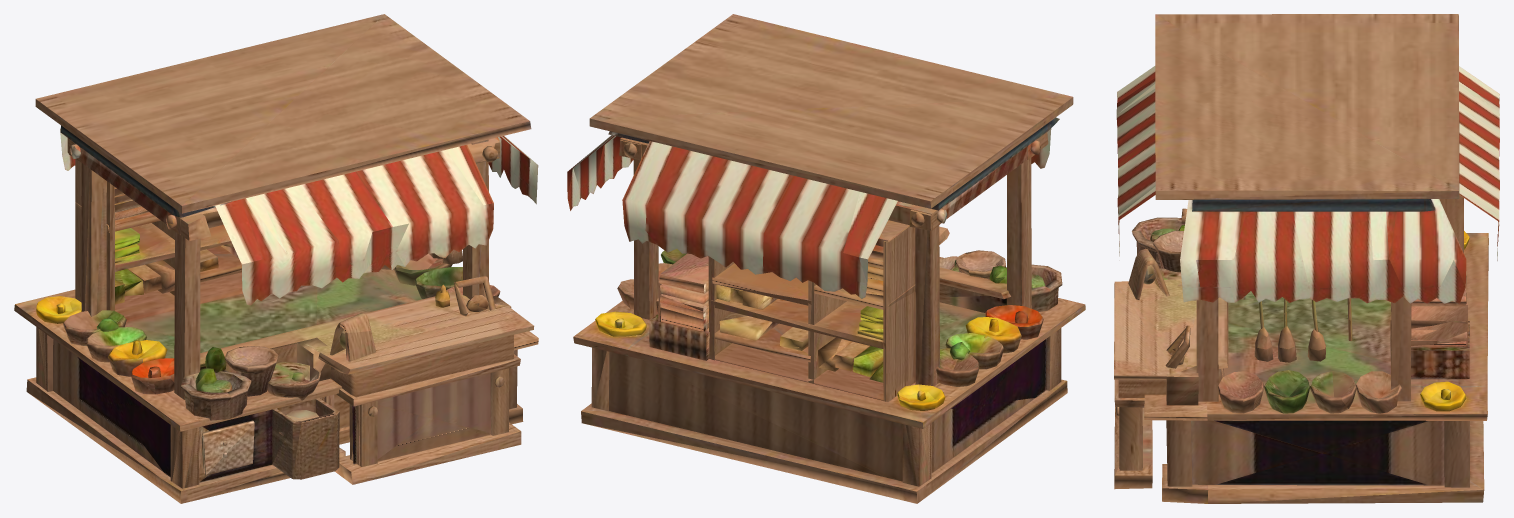
The model's file is market-stall.glb.
3 renders of one model, left to right at view 1: azimuth 30°, elevation 25°; view 2: azimuth 150°, elevation 25°; view 3: azimuth 270°, elevation 25°, orthographic. The views are drawn at different scales.
Size of the model in its own units: 2.4 by 1.81 by 2.01.
1 material, 1 textured.
